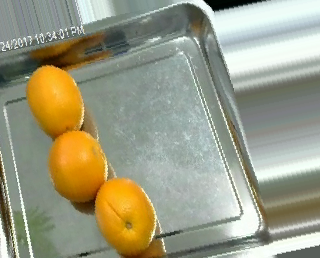Orange: (95, 176, 157, 252), (47, 131, 108, 202), (25, 65, 84, 137)
